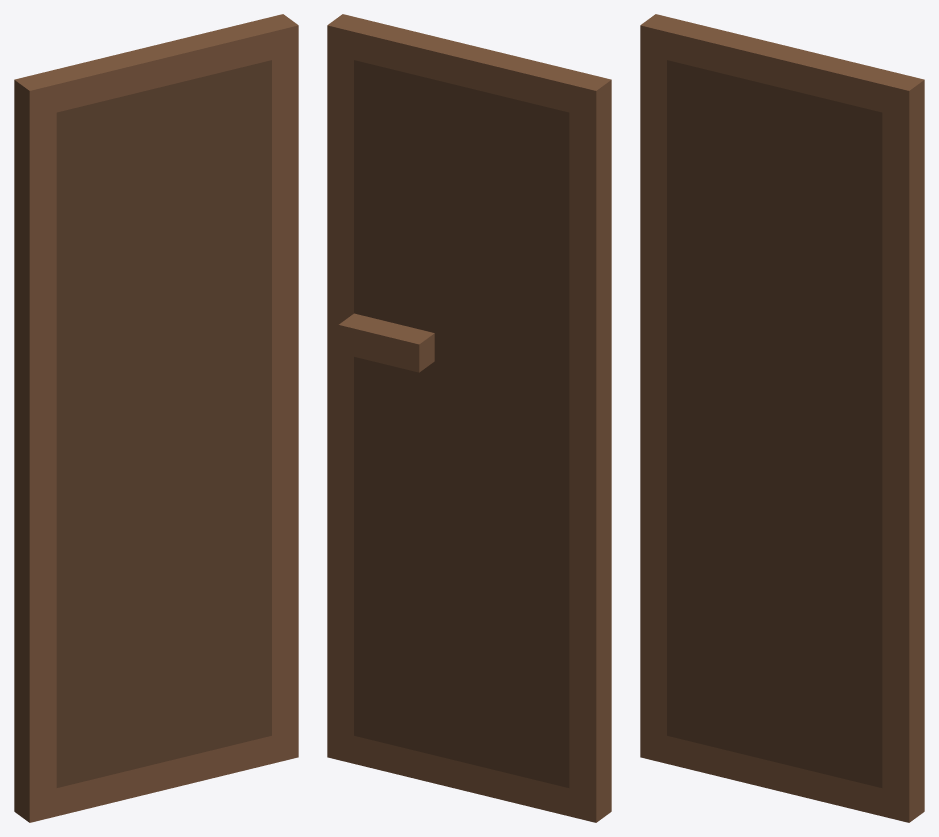
File: armoire-porte2.obj
3 views of the same model, side by side, from view 1: azimuth 30°, elevation 25°; view 2: azimuth 150°, elevation 25°; view 3: azimuth 330°, elevation 25° (orthographic).
Size of the model in its own units: 1 by 2.6 by 0.2.
1 material, 1 textured.
